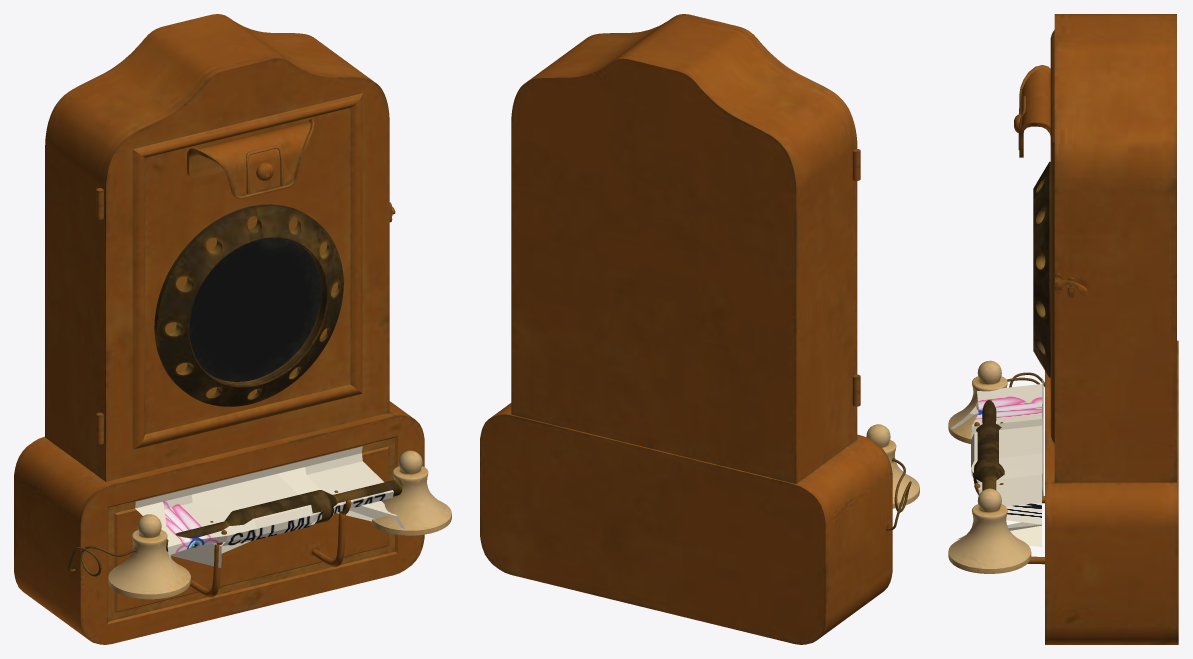
The model's file is nyb_kramer_phone.glb.
The picture shows the model from 3 angles, left to right: view 1: azimuth 30°, elevation 25°; view 2: azimuth 150°, elevation 25°; view 3: azimuth 270°, elevation 25°; orthographic projection.
Visible parts, largest first — view 1: vintage_telephone_wall_clock, stk_lbl_06227e315f.png; view 2: vintage_telephone_wall_clock; view 3: vintage_telephone_wall_clock, stk_lbl_06227e315f.png.
Part boxes in pixels (box(x1,y1,x2,y2)): vintage_telephone_wall_clock: box(14, 14, 451, 644); stk_lbl_06227e315f.png: box(135, 446, 404, 586); vintage_telephone_wall_clock: box(480, 14, 919, 644); vintage_telephone_wall_clock: box(948, 14, 1178, 644); stk_lbl_06227e315f.png: box(950, 377, 1043, 546).
Size of the model in its own units: 0.3428 by 0.5012 by 0.1926.
3 materials, 3 textured.
